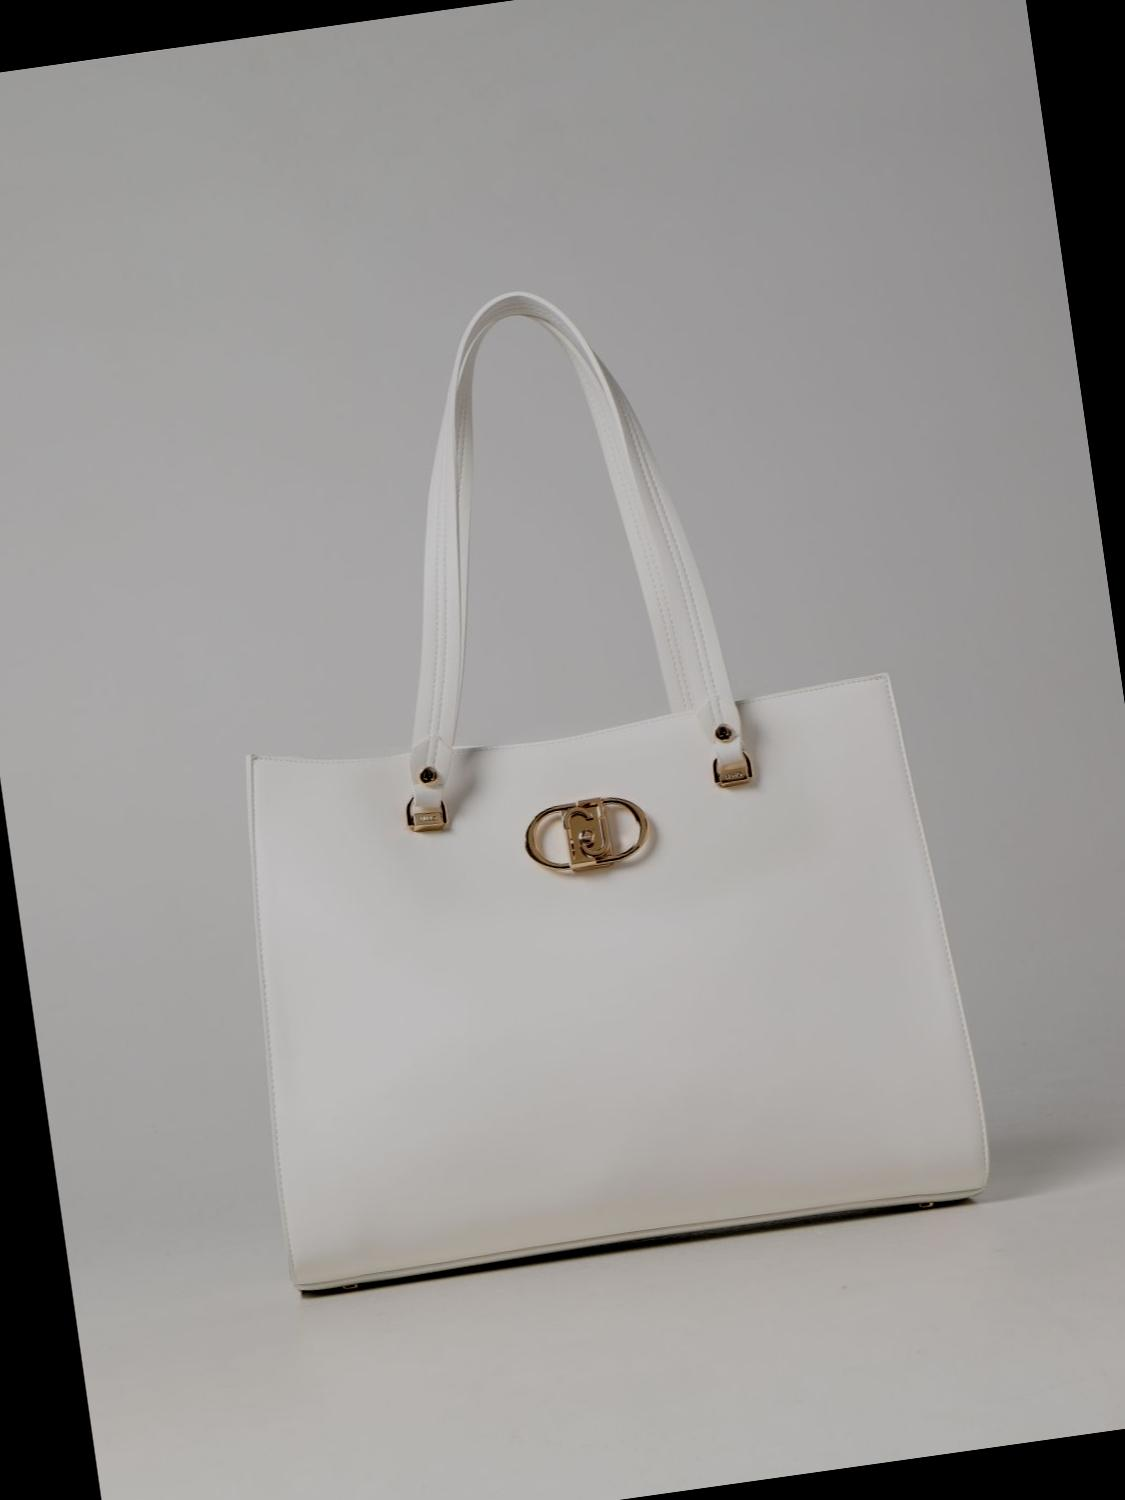LIU-JO: (559, 796, 611, 868)
